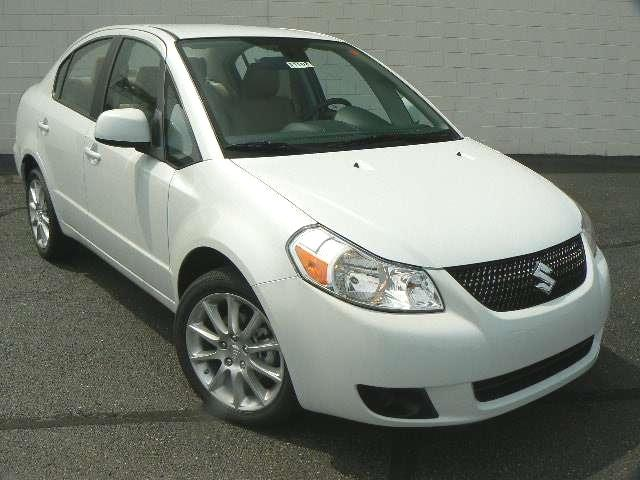suzuki: (526, 260, 560, 297)
